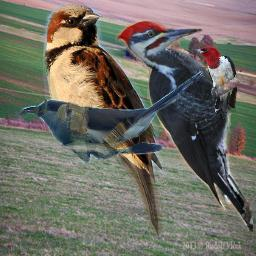Cuckoo: (20, 70, 209, 164)
Swallow: (42, 4, 163, 235)
Woodpecker: (115, 19, 253, 232), (191, 46, 237, 119)
